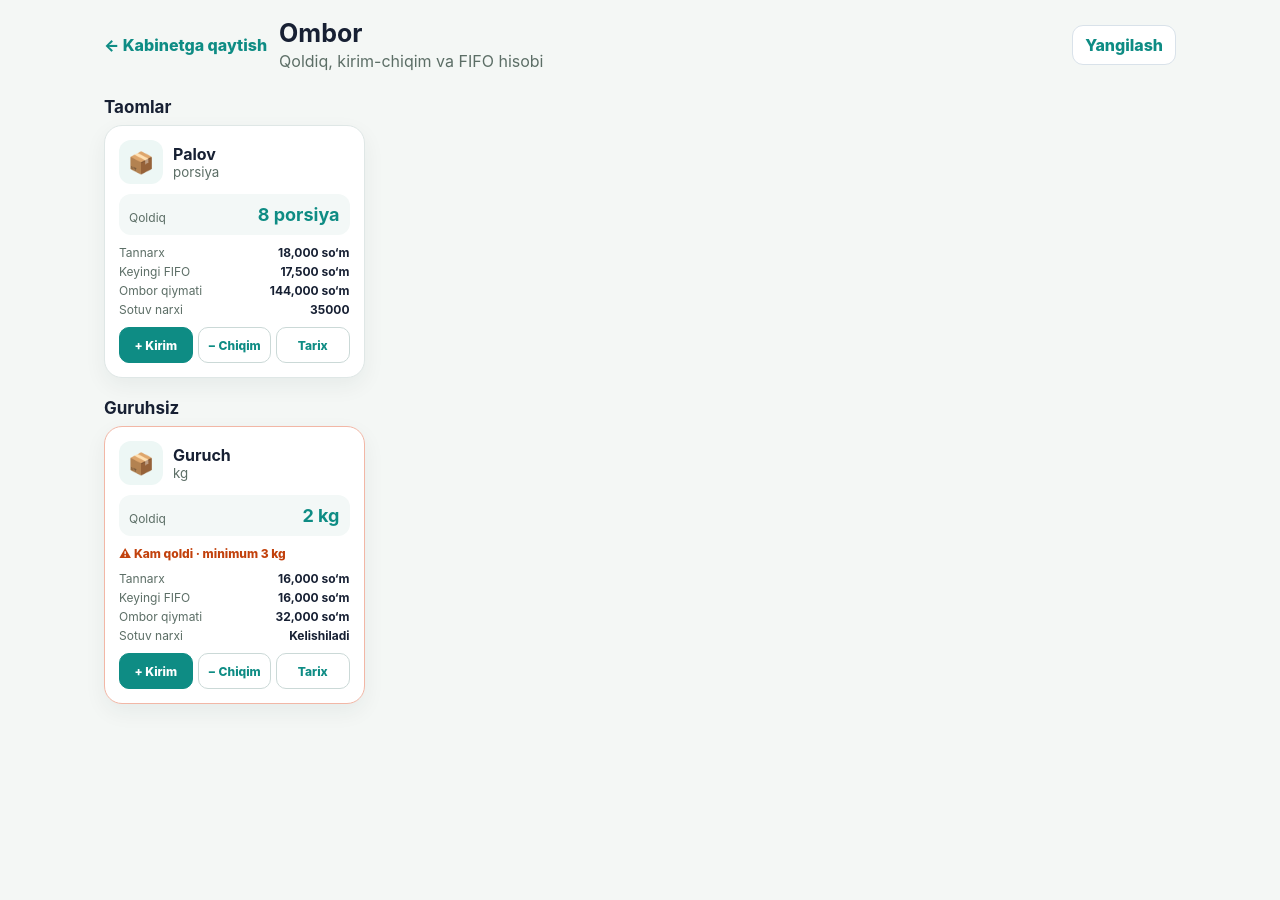
Test: v1656 Ombor › chiqimni qoldiqdan oshirishga ruxsat bermaydi
Expected: the text "Guruch" is shown, left=173, top=445, right=231, bottom=465
Expected: the element that starts with "Guruch" is shown, left=104, top=426, right=364, bottom=704
Click the button "− Chiqim" below "Kelishiladi" at (234, 671), box left=198, top=653, right=271, bottom=689
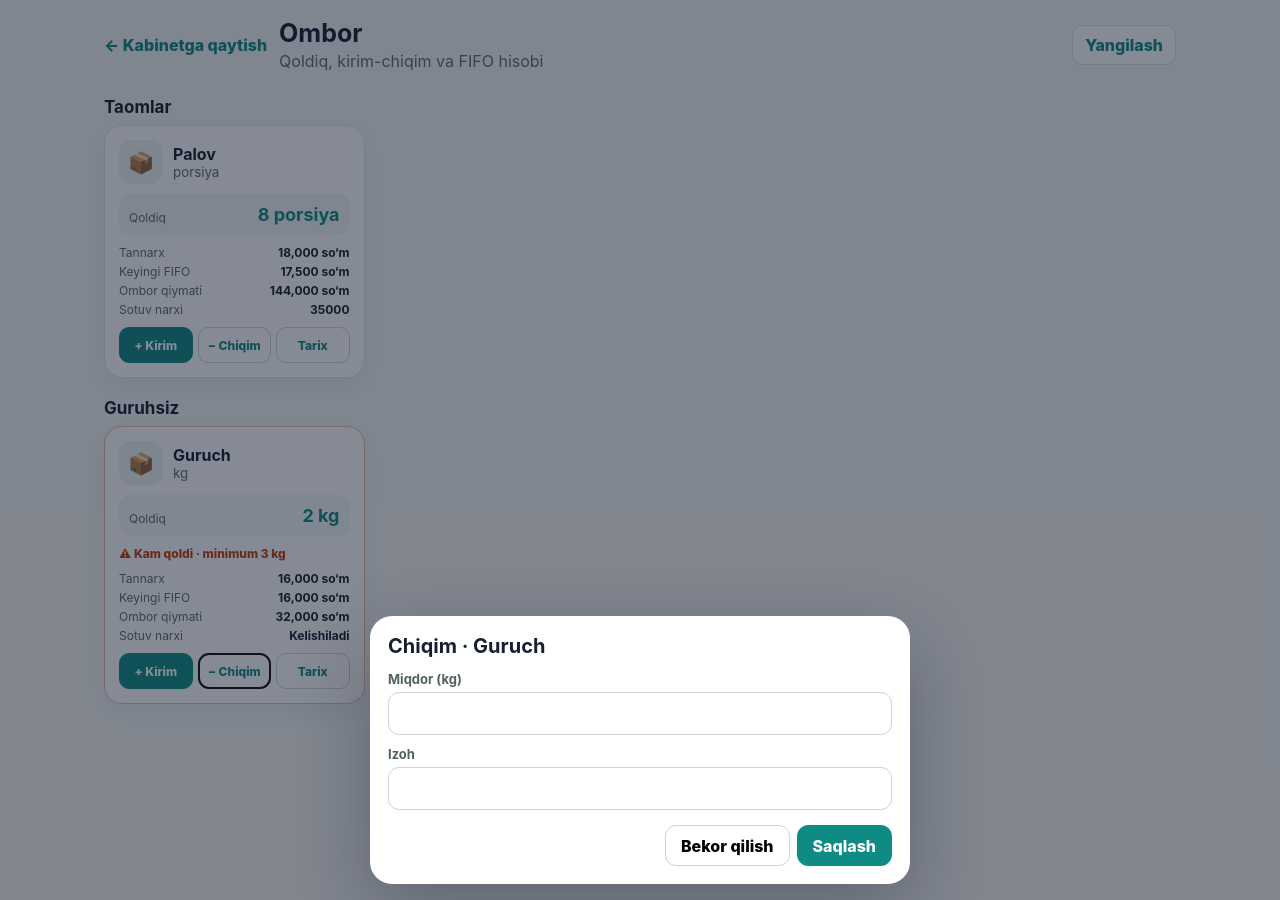
Type "3" into the field labelled "Miqdor" at (640, 714), box left=388, top=692, right=892, bottom=735
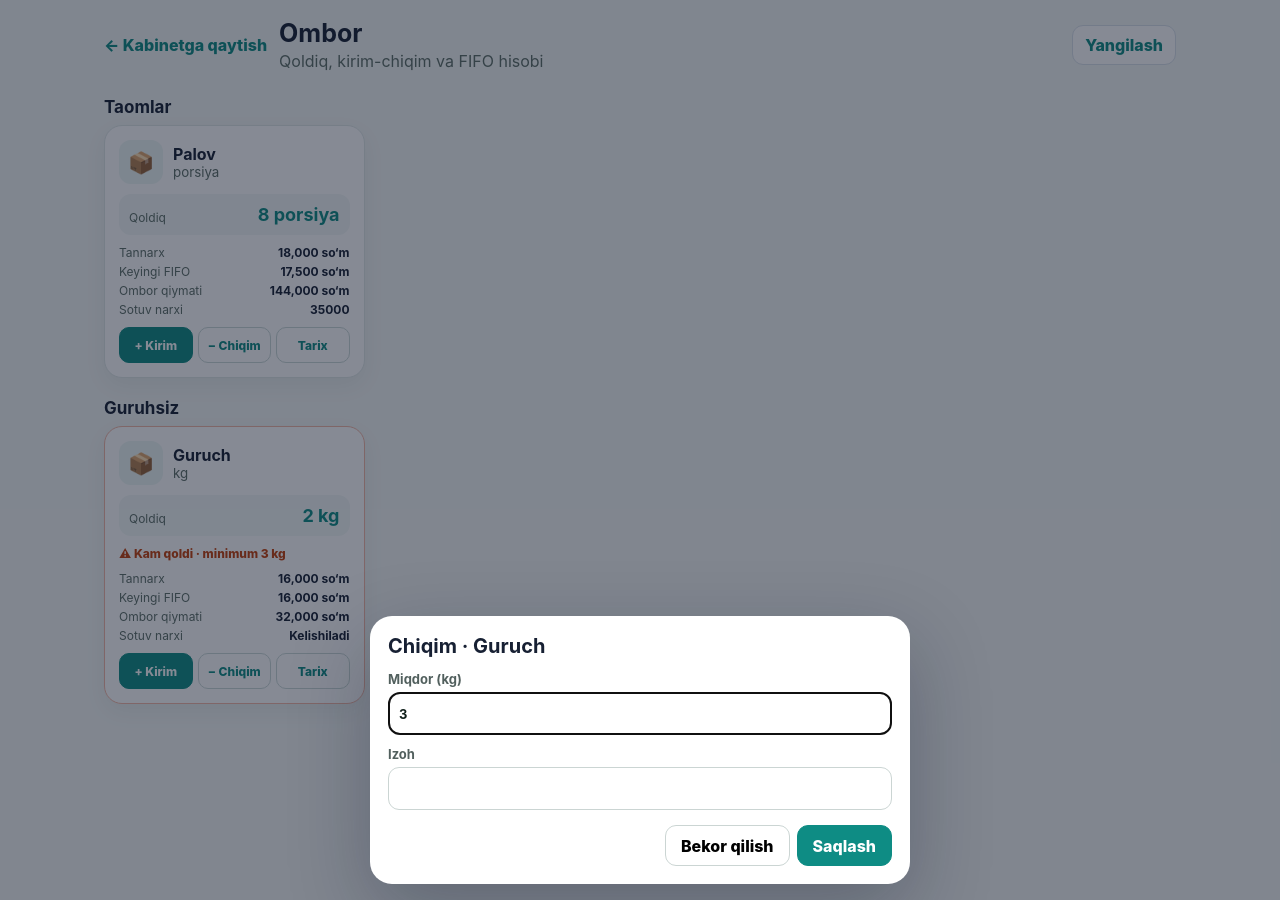
Click the button "Saqlash" at (844, 846), box left=796, top=825, right=892, bottom=866
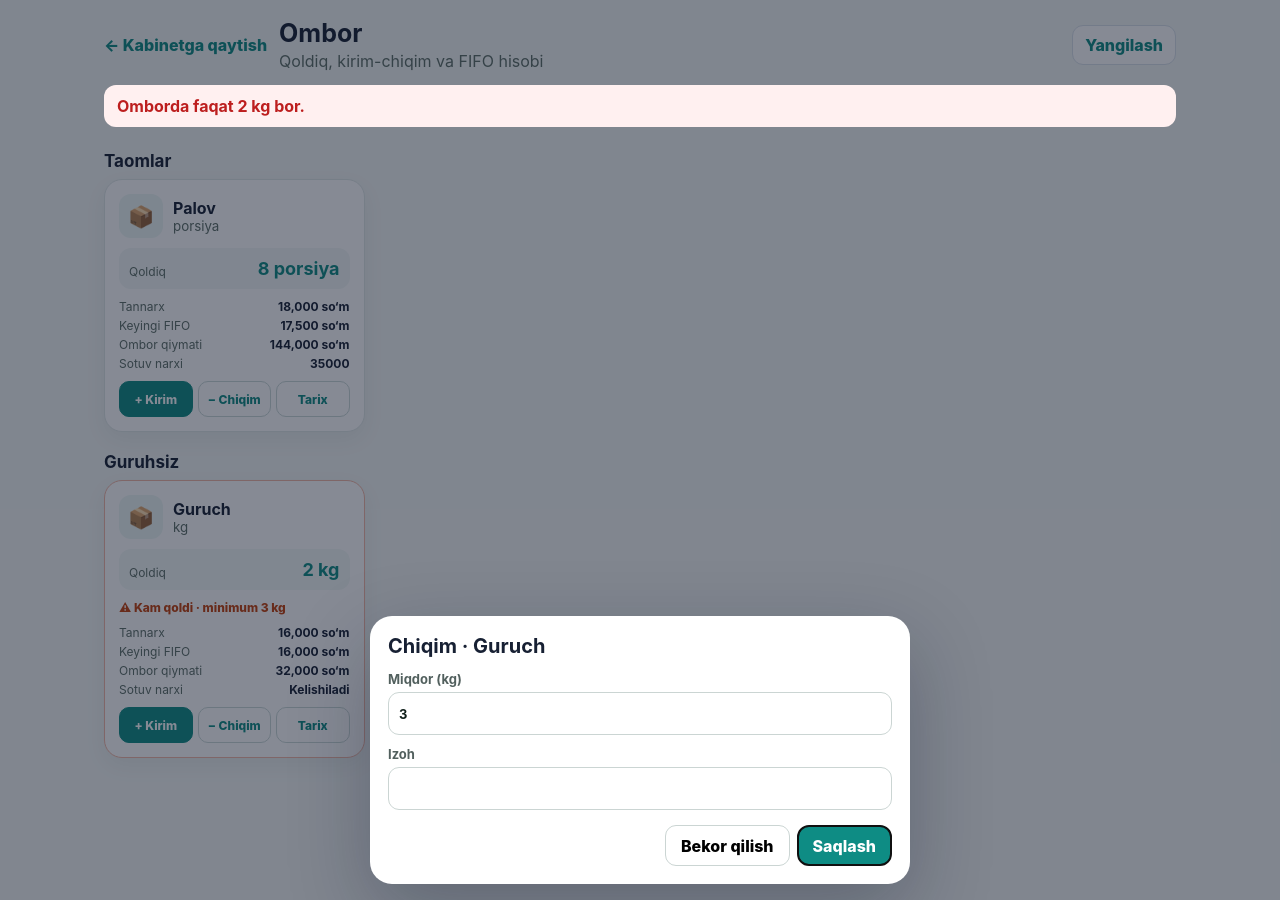
Expected: the message shows "faqat 2 kg bor", left=117, top=96, right=305, bottom=116
